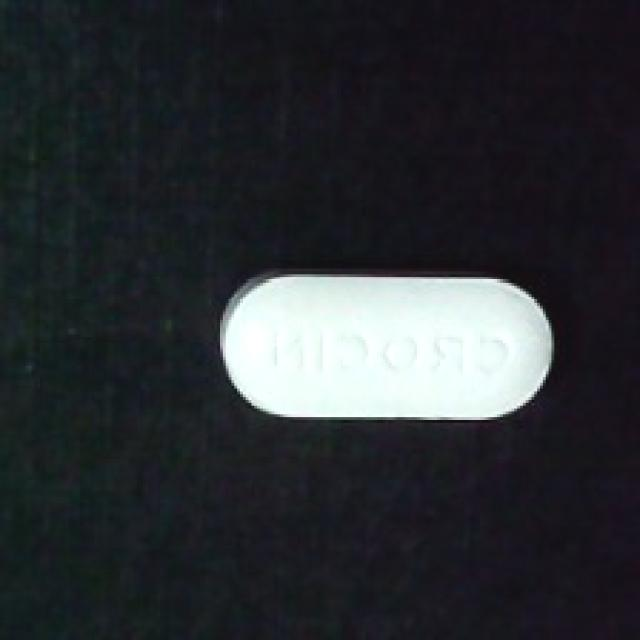no-defect: (214, 260, 560, 420)
